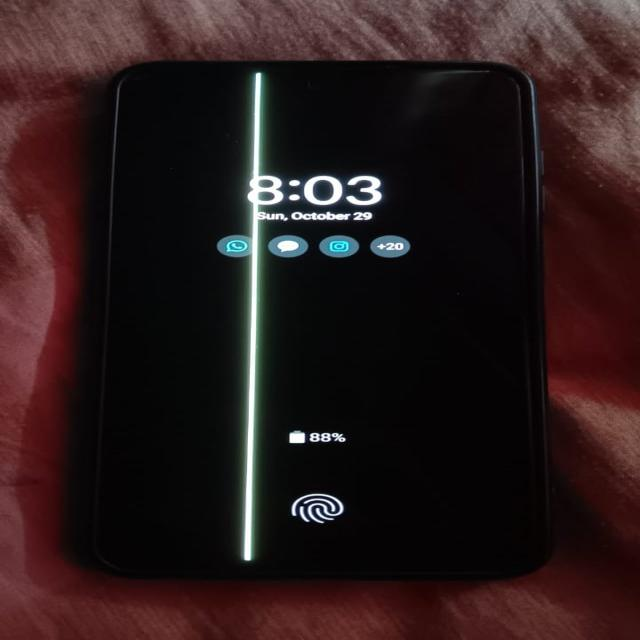mobile_phone: (24, 41, 576, 623)
